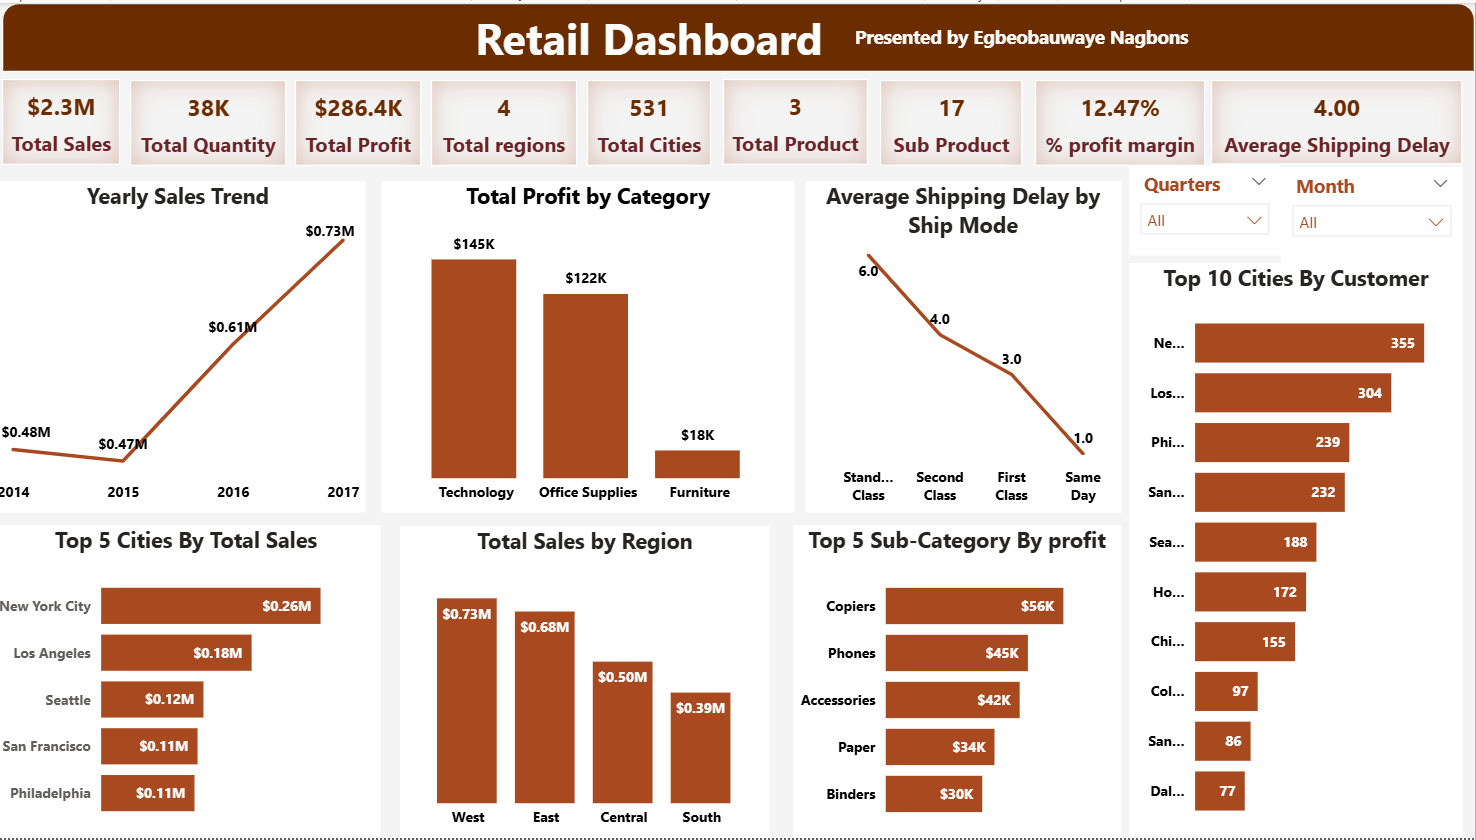

This screenshot's page, from the dashboard's own definition file:
{"tool":"powerbi","page":{"name":"Page 1","canvas":[1280,720],"ordinal":0},"visuals":[{"type":"shape","box":[9.5,0,1270.5,59.5],"z":0},{"type":"textbox","box":[405.4,0,324.3,59.5],"z":1000},{"type":"card","title":"Total Sales","fields":{"Values":["Orders__2.Total Sales"]},"box":[9.3,65.9,102.3,73.5],"z":2000},{"type":"card","title":"Total Sales","fields":{"Values":["Orders__2.Total Quantity"]},"box":[120,66.8,135.2,73.5],"z":3000},{"type":"card","title":"Total Sales","fields":{"Values":["Orders__2.Total Profit"]},"box":[262,66.8,109,73.5],"z":4000},{"type":"card","title":"Total Sales","fields":{"Values":["Orders__2.Total regions"]},"box":[379.4,66.8,125.9,73.5],"z":5000},{"type":"card","title":"Total Sales","fields":{"Values":["Orders__2.count of cities"]},"box":[513.8,66.8,107.3,73.5],"z":6000},{"type":"card","title":"Total Sales","fields":{"Values":["Orders__2.count of category product"]},"box":[631.3,65.9,125.1,73.5],"z":7000},{"type":"card","title":"Total Sales","fields":{"Values":["Orders__2.sub category product"]},"box":[766.5,66.8,123.4,73.5],"z":8000},{"type":"card","title":"Total Sales","fields":{"Values":["Orders__2.% profit margin"]},"box":[900.8,66.8,147,73.5],"z":9000},{"type":"lineChart","title":"Yearly Sales Trend","fields":{"Y":["Orders__2.Total Sales"],"Category":["Orders__2.Order Date.Variation.Date Hierarchy.Year"]},"box":[0,153.5,322.6,286.4],"z":10000},{"type":"barChart","title":"Top 5 Cities By Total Sales","fields":{"Category":["Sales_Data.City"],"Y":["Orders__2.Total Sales"]},"box":[0,450.2,336.4,269.1],"z":11000},{"type":"clusteredColumnChart","fields":{"Category":["Sales_Data.Category"],"Y":["Orders__2.Total Profit"]},"box":[336.4,153.5,357.1,286.4],"z":12000},{"type":"barChart","title":"Top 5 Sub-Category By profit","fields":{"Category":["Sales_Data.Sub-Category"],"Y":["Orders__2.Total Profit"]},"box":[691.8,450.2,282.9,270],"z":13000},{"type":"clusteredColumnChart","fields":{"Y":["Orders__2.Total Sales"],"Category":["Sales_Data.Region"]},"box":[352.8,451.1,319.1,269.1],"z":14000},{"type":"lineChart","fields":{"Category":["Sales_Data.Ship Mode"],"Y":["Orders__2.Average Shipping Delay"]},"box":[702.1,153.5,272.6,286.4],"z":15000},{"type":"barChart","title":"Top 10 Cities By Customer","fields":{"Y":["Count(Sales_Data.Customer ID)"],"Category":["Sales_Data.City"]},"box":[981.4,224.7,287.9,495.1],"z":16000},{"type":"slicer","fields":{"Values":["Orders__2.Quarters"]},"box":[981.6,139.7,131.1,78.5],"z":17000},{"type":"card","title":"Total Sales","fields":{"Values":["Orders__2.Average Shipping Delay"]},"box":[1052.3,66.4,217.4,73.3],"z":18000},{"type":"textbox","box":[740.1,12.9,312.2,33.6],"z":19000},{"type":"slicer","fields":{"Values":["Orders__2.Month"]},"box":[1112.7,141,156.6,83.6],"z":20000}]}

Visuals, with their boxes in screenshot pixels (x1, y1, x2, y2), scaled from the page's 1280x720 canvas onto the 1476x840 screenshot:
shape: {"left": 11, "top": 0, "right": 1475, "bottom": 69}
textbox: {"left": 467, "top": 0, "right": 841, "bottom": 69}
"Total Sales" card: {"left": 11, "top": 77, "right": 129, "bottom": 163}
"Total Sales" card: {"left": 138, "top": 78, "right": 294, "bottom": 164}
"Total Sales" card: {"left": 302, "top": 78, "right": 428, "bottom": 164}
"Total Sales" card: {"left": 437, "top": 78, "right": 583, "bottom": 164}
"Total Sales" card: {"left": 592, "top": 78, "right": 716, "bottom": 164}
"Total Sales" card: {"left": 728, "top": 77, "right": 872, "bottom": 163}
"Total Sales" card: {"left": 884, "top": 78, "right": 1026, "bottom": 164}
"Total Sales" card: {"left": 1039, "top": 78, "right": 1208, "bottom": 164}
"Yearly Sales Trend" lineChart: {"left": 0, "top": 179, "right": 372, "bottom": 513}
"Top 5 Cities By Total Sales" barChart: {"left": 0, "top": 525, "right": 388, "bottom": 839}
clusteredColumnChart - Sales_Data.Category x Orders__2.Total Profit: {"left": 388, "top": 179, "right": 800, "bottom": 513}
"Top 5 Sub-Category By profit" barChart: {"left": 798, "top": 525, "right": 1124, "bottom": 839}
clusteredColumnChart - Orders__2.Total Sales x Sales_Data.Region: {"left": 407, "top": 526, "right": 775, "bottom": 839}
lineChart - Sales_Data.Ship Mode x Orders__2.Average Shipping Delay: {"left": 810, "top": 179, "right": 1124, "bottom": 513}
"Top 10 Cities By Customer" barChart: {"left": 1132, "top": 262, "right": 1464, "bottom": 839}
slicer - Orders__2.Quarters: {"left": 1132, "top": 163, "right": 1283, "bottom": 255}
"Total Sales" card: {"left": 1213, "top": 77, "right": 1464, "bottom": 163}
textbox: {"left": 853, "top": 15, "right": 1213, "bottom": 54}
slicer - Orders__2.Month: {"left": 1283, "top": 164, "right": 1464, "bottom": 262}
